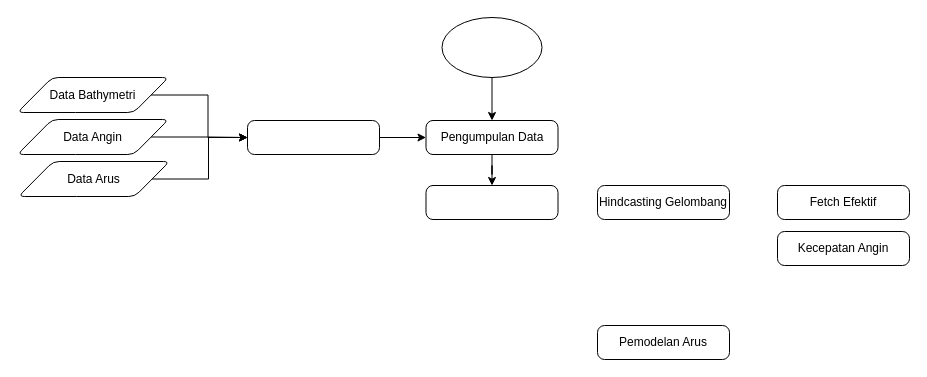
This 927x377 diagram has some shape labels left out. The centre of each missing label's shape, as x and y in pixels:
"Analisis Data" goes at [491,202].
"Data Lingkungan" goes at [313,137].
"Start" goes at [491,47].
